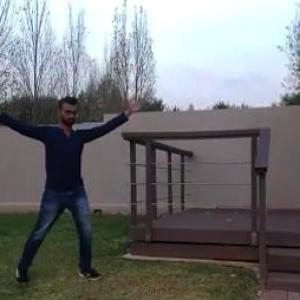takeoff: (0, 92, 141, 281)
